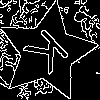K: (22, 27, 79, 83)
